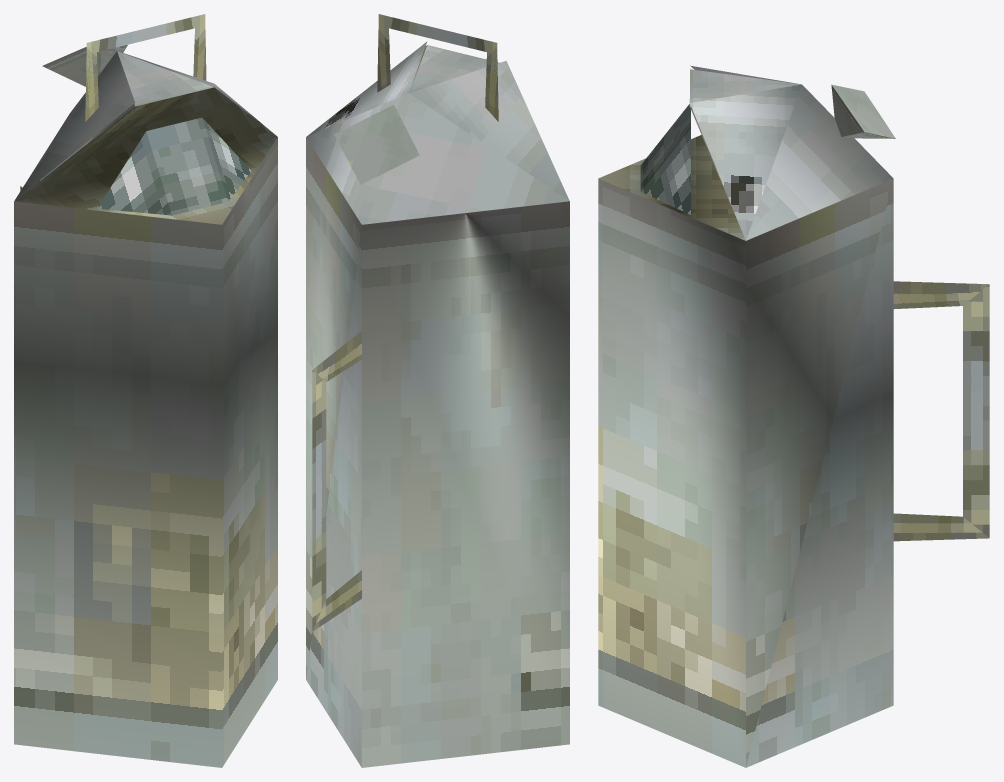
Rendered from edb_con_bag_ingredients_lg_s1_l2.fbx.
The picture shows the model from 3 angles, left to right: view 1: azimuth 30°, elevation 25°; view 2: azimuth 150°, elevation 25°; view 3: azimuth 270°, elevation 25°; orthographic projection. The views are drawn at different scales.
Parts seen in each view (by area): view 1: mesh_node; view 2: mesh_node; view 3: mesh_node.
Boxes of the visible parts, x1,y1,x2,y2 form: mesh_node: [14, 14, 277, 767]; mesh_node: [306, 14, 569, 767]; mesh_node: [598, 65, 989, 767].
Bounding box in the file's own units: 0.3209 × 0.7951 × 0.4253.
